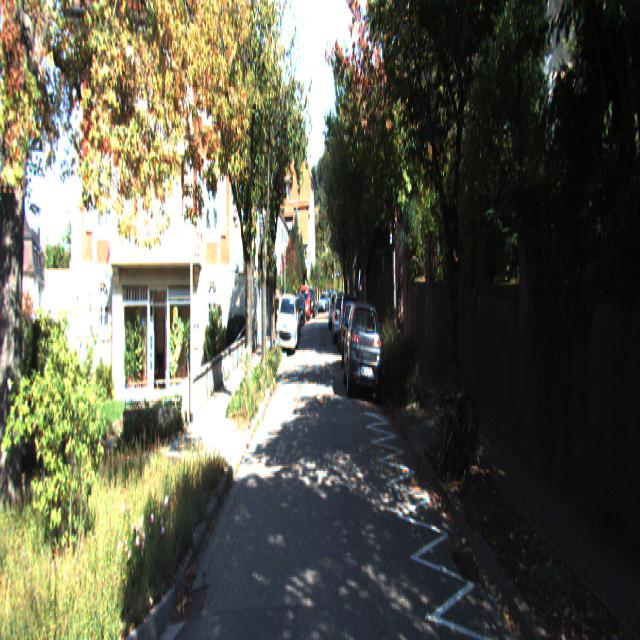Car: (342, 298, 383, 409), (340, 302, 364, 379), (336, 291, 358, 358), (275, 294, 297, 358), (331, 294, 351, 349)
